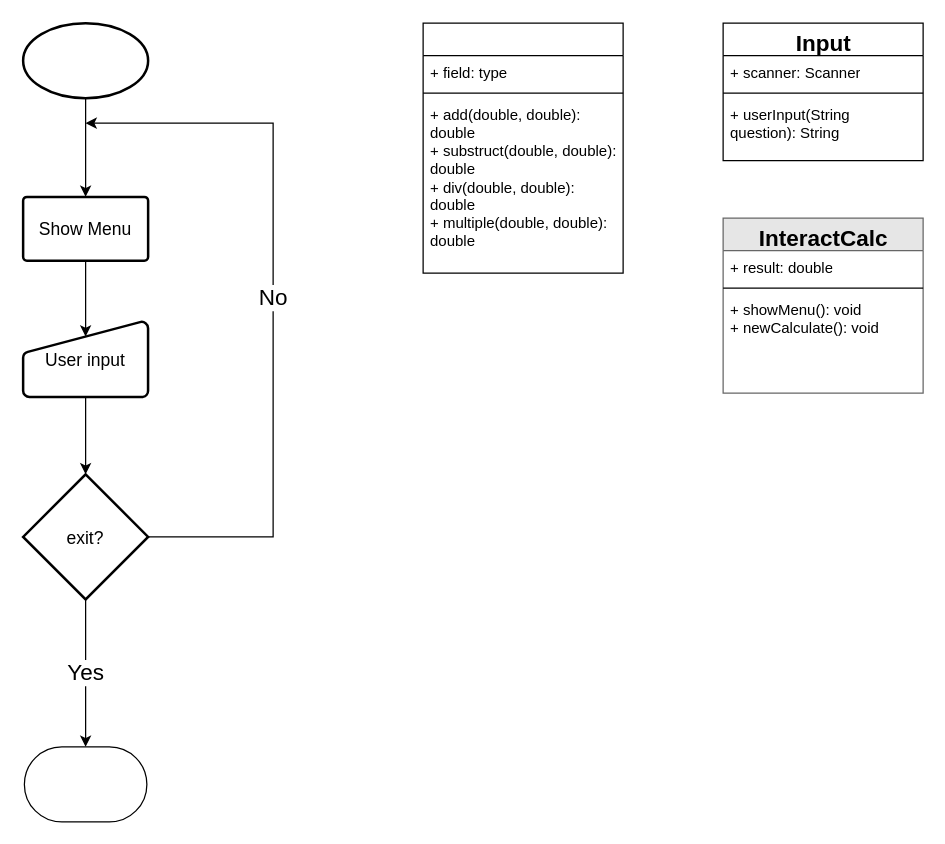
This 945x844 diagram has some shape labels left out. Here are the shapes that lost their labels. From the top down, the box of each, then its label:
(21, 21, 149, 99): Start program
(422, 22, 623, 273): Calculator
(23, 746, 147, 822): End
